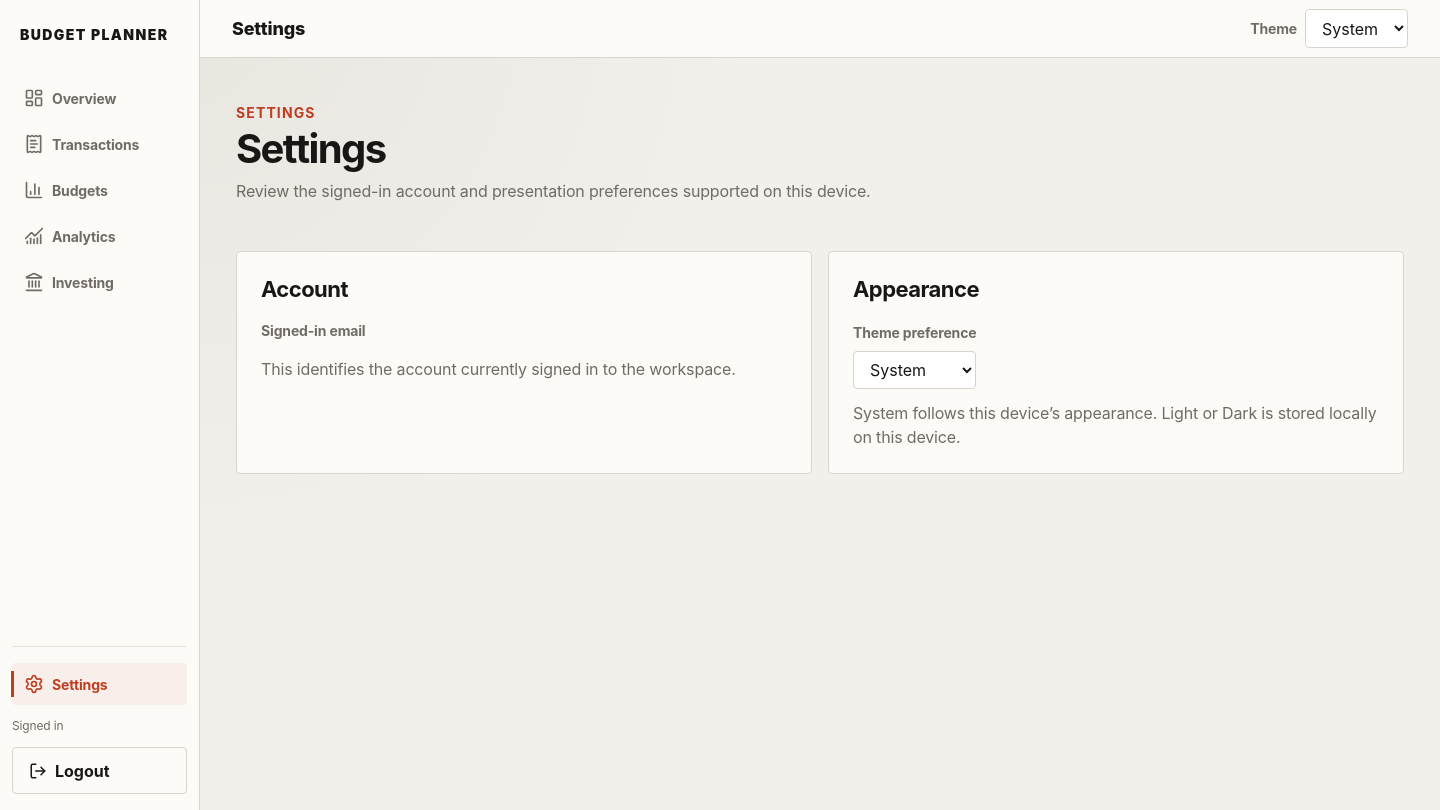
Scenario: application routes and shell › keeps shell and Settings theme controls unique and synchronized
Select "Dark" in the dropdown labelled "Theme preference" at (915, 370), box [853,350,976,389]
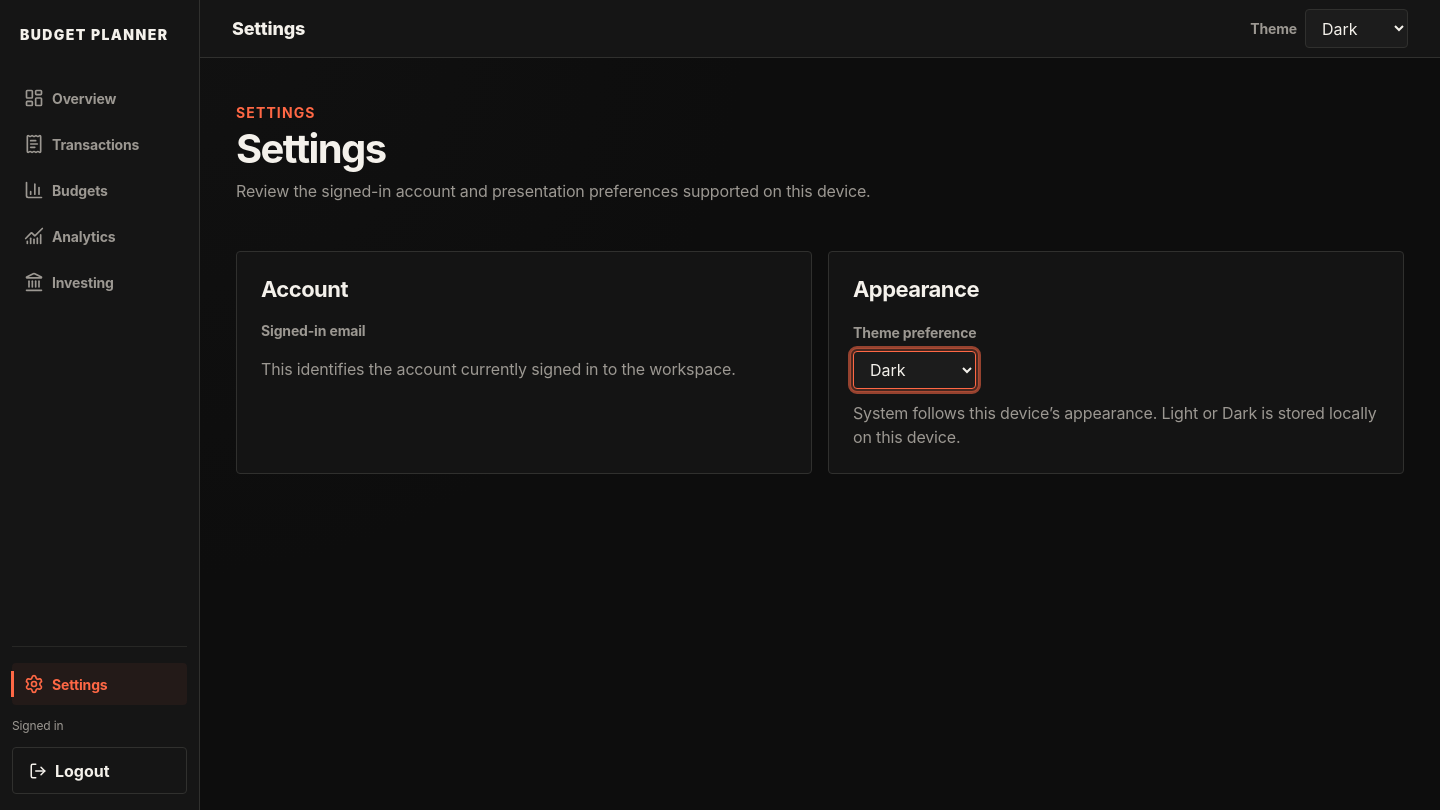
Now the dropdown labelled "Theme" shows "Dark", box [1305,9,1408,48]
